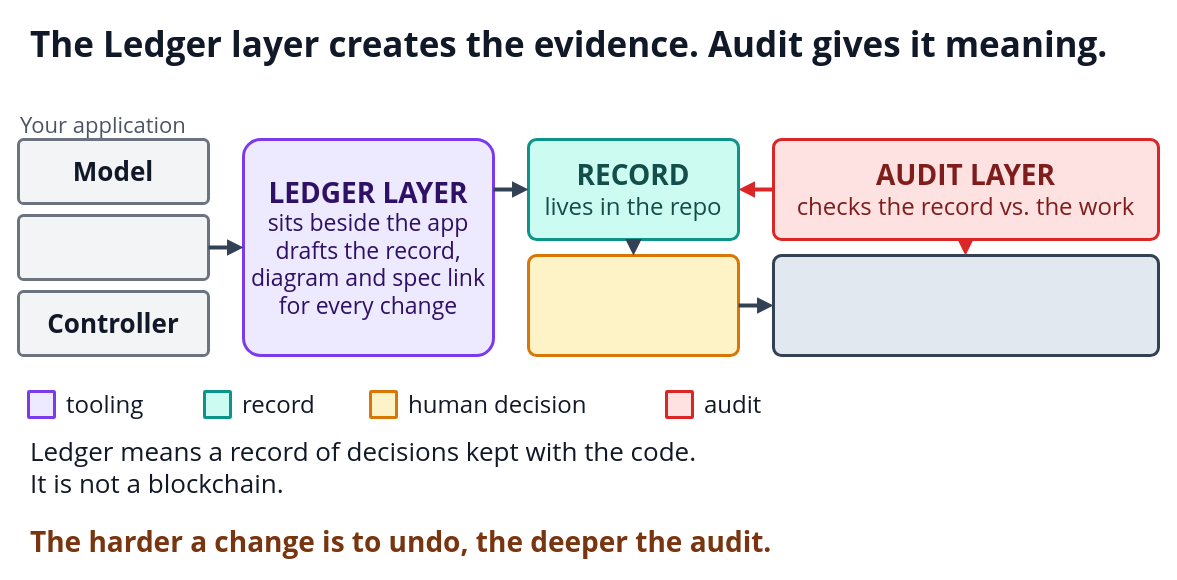
This 1177x580 diagram has some shape labels left out. The shapes that lost their labels are listed below. From the top down, each one's centre as x and y in pixels, then its label:
At point (113, 247): "View".
At point (633, 305): "ATTEST builder signs".
At point (966, 305): "GATE no audited record, no merge".
